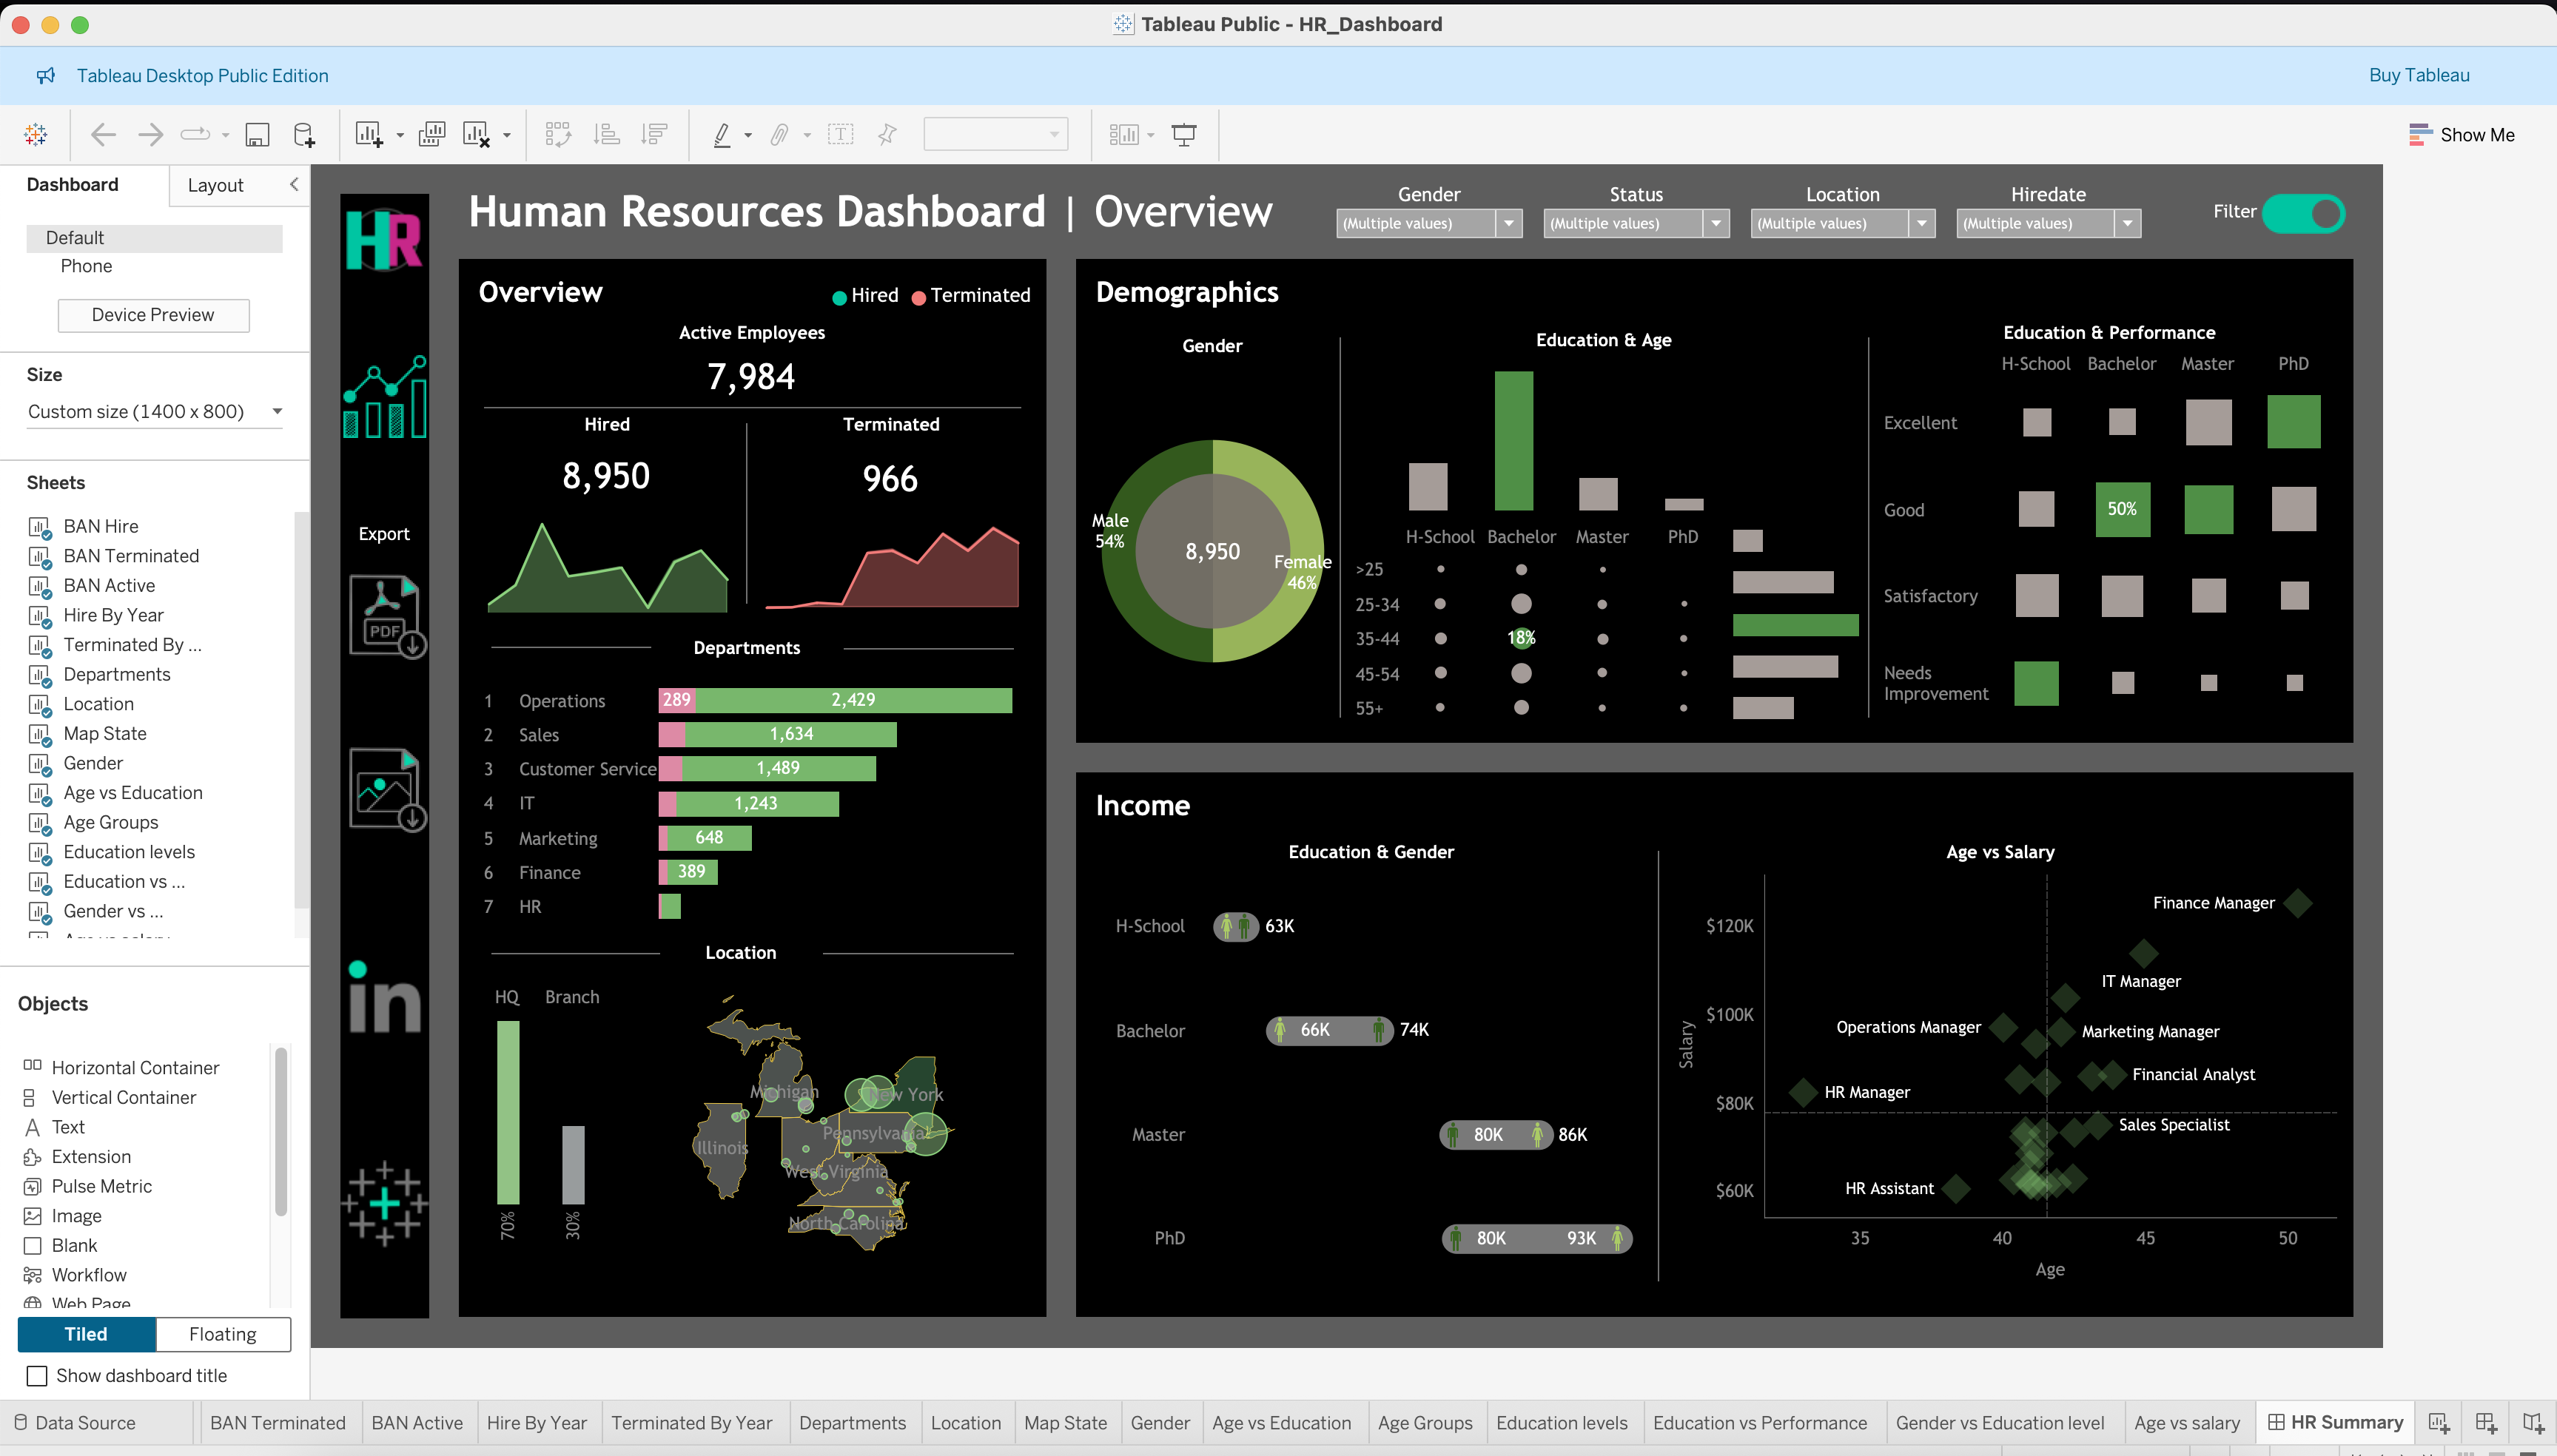

Layout of this report page (visuals, bound fields, positions):
{"tool":"tableau","page":{"name":"HR Summary","canvas":[1400,800],"ordinal":0},"visuals":[{"type":"text","box":[100,0,576.5,64]},{"type":"text","box":[1253,0,95,64]},{"type":"blank","box":[1348,0,32,64]},{"type":"filter","title":"Gender vs Education level","param":"[federated.0iwgxc71xzuzsq14dhsb20yxj6uy].[none:Gender:nk]","box":[686,9,140,46]},{"type":"filter","title":"Gender vs Education level","param":"[federated.0iwgxc71xzuzsq14dhsb20yxj6uy].[none:Calculation_441563936312295424:nk","box":[826,9,140,46]},{"type":"filter","title":"Gender vs Education level","param":"[federated.0iwgxc71xzuzsq14dhsb20yxj6uy].[none:Calculation_571605374871343106:nk","box":[966,9,139,46]},{"type":"filter","title":"Gender vs Education level","param":"[federated.0iwgxc71xzuzsq14dhsb20yxj6uy].[yr:Hiredate:ok]","box":[1105,9,139,46]},{"type":"dashboard-object","box":[1317,15,58,37]},{"type":"image","param":"Image/Logo.png","box":[20,20,60,62]},{"type":"text","box":[107,71,383,32]},{"type":"text","box":[524,71,849,31]},{"type":"dashboard-object","box":[20,82,60,151]},{"type":"text","box":[107,103,383,22]},{"type":"text","box":[524,107,171,32]},{"type":"blank","box":[695,107,1,277]},{"type":"text","box":[696,107,356,24]},{"type":"text","box":[1053,107,320,14]},{"type":"worksheet","title":"Education vs Performance","mark":"Square","rows":["Performance Rating"],"cols":["Education Level"],"box":[1053,121,320,263]},{"type":"worksheet","title":"BAN Active","mark":"Text","box":[107,125,383,39]},{"type":"worksheet","title":"Education levels","mark":"Bar","rows":["Calculation_474355770384441344"],"cols":["Education Level"],"box":[696,131,356,107]},{"type":"worksheet","title":"Gender","mark":"Pie","cols":["Calculation_688276752752287745","Calculation_688276752752287745"],"box":[524,139,171,245]},{"type":"blank","box":[107,164,383,1]},{"type":"text","box":[107,165,187,22]},{"type":"blank","box":[294,165,1,142]},{"type":"text","box":[295,165,195,22]},{"type":"worksheet","title":"BAN Hire","mark":"Text","box":[107,187,187,48]},{"type":"worksheet","title":"BAN Terminated","mark":"Text","box":[295,187,195,51.1]},{"type":"text","box":[20,233,60,33]},{"type":"worksheet","title":"Hire By Year","mark":"Line","rows":["Calculation_474355770384441344","Calculation_474355770384441344"],"cols":["Hiredate"],"box":[107,235,187,72]},{"type":"worksheet","title":"Age vs Education","mark":"Circle","rows":["Calculation_688276752759476227"],"cols":["Education Level"],"box":[696,238,263,146]},{"type":"worksheet","title":"Age Groups","mark":"Bar","rows":["Calculation_688276752759476227"],"cols":["Calculation_474355770384441344"],"box":[959,238,93,146]},{"type":"worksheet","title":"Terminated By Year","mark":"Line","rows":["Calculation_474355770385014786","Calculation_474355770385014786"],"cols":["Termdate"],"box":[295,238.1,195,68.9]},{"type":"dashboard-object","box":[20,266,60,81]},{"type":"blank","box":[107,307,138,40]},{"type":"text","box":[245,307,100,40]},{"type":"blank","box":[345,307,145,40]},{"type":"dashboard-object","box":[20,347,60,152]},{"type":"worksheet","title":"Departments","mark":"Bar","rows":["Calculation_571605374869540865","Department"],"cols":["Calculation_474355770384441344"],"box":[107,347,383,170]},{"type":"text","box":[524,418,849,31]},{"type":"text","box":[524,454,386,22]},{"type":"blank","box":[910,454,1,311]},{"type":"text","box":[911,454,462,22]},{"type":"worksheet","title":"Gender vs Education level","mark":"Square","rows":["Education Level"],"cols":["Salary","Salary"],"box":[524,476,386,289]},{"type":"worksheet","title":"Age vs salary","mark":"Shape","rows":["Salary"],"cols":["Calculation_688276752759087106"],"box":[911,476,462,289]},{"type":"image","param":"Image/contact-linkedin.png","box":[20,499,60,128]},{"type":"blank","box":[107,517,144,32]},{"type":"text","box":[251,517,80,32]},{"type":"blank","box":[331,517,159,32]},{"type":"worksheet","title":"Location","mark":"Bar","rows":["Calculation_474355770384441344"],"cols":["Calculation_571605374871343106","Calculation1"],"box":[107,549,96,198]},{"type":"worksheet","title":"Map State","mark":"Automatic","box":[203,549,287,198]},{"type":"image","param":"Image/contact-public.png","box":[20,627,60,152]}]}

Visuals, with their boxes on the page's 1400x800 design canvas (x1, y1, x2, y2). These are canvas units, not pixel positions in the 2557x1456 screenshot, which may show the page scaled, cropped or inside an application window:
text: [100,0,676,64]
text: [1253,0,1348,64]
blank: [1348,0,1380,64]
"Gender vs Education level" filter: [686,9,826,55]
"Gender vs Education level" filter: [826,9,966,55]
"Gender vs Education level" filter: [966,9,1105,55]
"Gender vs Education level" filter: [1105,9,1244,55]
dashboard-object: [1317,15,1375,52]
image: [20,20,80,82]
text: [107,71,490,103]
text: [524,71,1373,102]
dashboard-object: [20,82,80,233]
text: [107,103,490,125]
text: [524,107,695,139]
blank: [695,107,696,384]
text: [696,107,1052,131]
text: [1053,107,1373,121]
"Education vs Performance" worksheet (Square marks): [1053,121,1373,384]
"BAN Active" worksheet (Text marks): [107,125,490,164]
"Education levels" worksheet (Bar marks): [696,131,1052,238]
"Gender" worksheet (Pie marks): [524,139,695,384]
blank: [107,164,490,165]
text: [107,165,294,187]
blank: [294,165,295,307]
text: [295,165,490,187]
"BAN Hire" worksheet (Text marks): [107,187,294,235]
"BAN Terminated" worksheet (Text marks): [295,187,490,238]
text: [20,233,80,266]
"Hire By Year" worksheet (Line marks): [107,235,294,307]
"Age vs Education" worksheet (Circle marks): [696,238,959,384]
"Age Groups" worksheet (Bar marks): [959,238,1052,384]
"Terminated By Year" worksheet (Line marks): [295,238,490,307]
dashboard-object: [20,266,80,347]
blank: [107,307,245,347]
text: [245,307,345,347]
blank: [345,307,490,347]
dashboard-object: [20,347,80,499]
"Departments" worksheet (Bar marks): [107,347,490,517]
text: [524,418,1373,449]
text: [524,454,910,476]
blank: [910,454,911,765]
text: [911,454,1373,476]
"Gender vs Education level" worksheet (Square marks): [524,476,910,765]
"Age vs salary" worksheet (Shape marks): [911,476,1373,765]
image: [20,499,80,627]
blank: [107,517,251,549]
text: [251,517,331,549]
blank: [331,517,490,549]
"Location" worksheet (Bar marks): [107,549,203,747]
"Map State" worksheet: [203,549,490,747]
image: [20,627,80,779]
